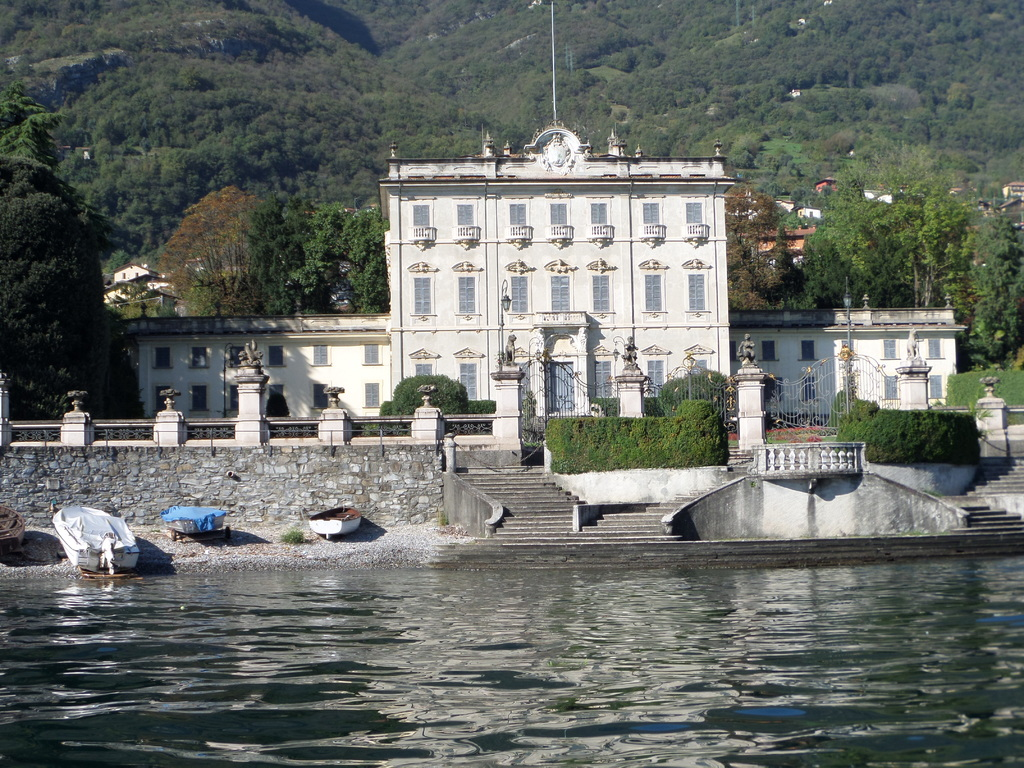Tree: (0, 0, 1023, 419), (544, 399, 730, 468), (826, 412, 988, 472), (381, 373, 472, 438), (648, 366, 730, 422), (830, 389, 877, 419)
